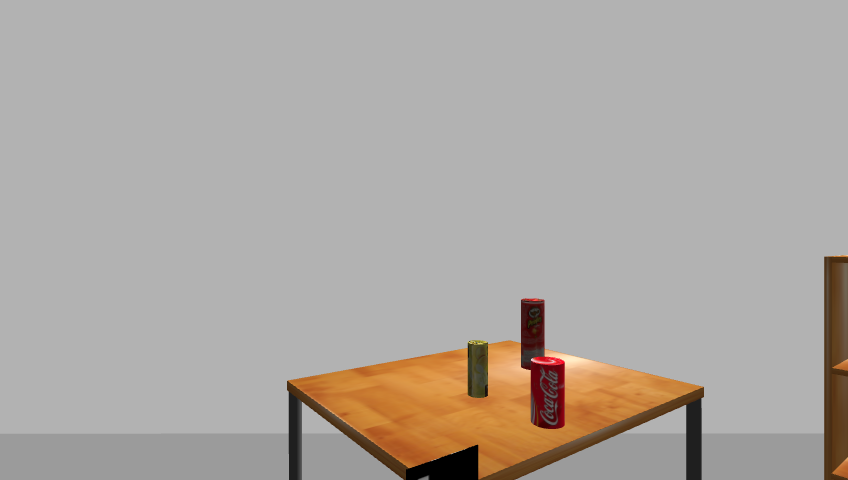aruco marker: (402, 444, 484, 480)
biscuits pack: (467, 339, 490, 399)
bookshelf: (819, 257, 848, 480)
coke can: (528, 357, 567, 429)
dinner table: (277, 347, 714, 480)
pringles can: (517, 297, 548, 373)
